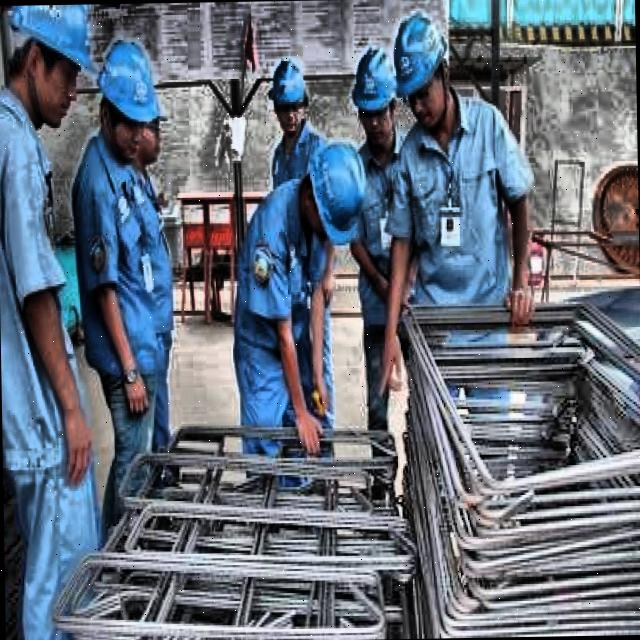helmet: (6, 8, 97, 124), (96, 27, 166, 163), (293, 146, 373, 246), (390, 2, 451, 124), (348, 34, 398, 154), (268, 51, 310, 138)
